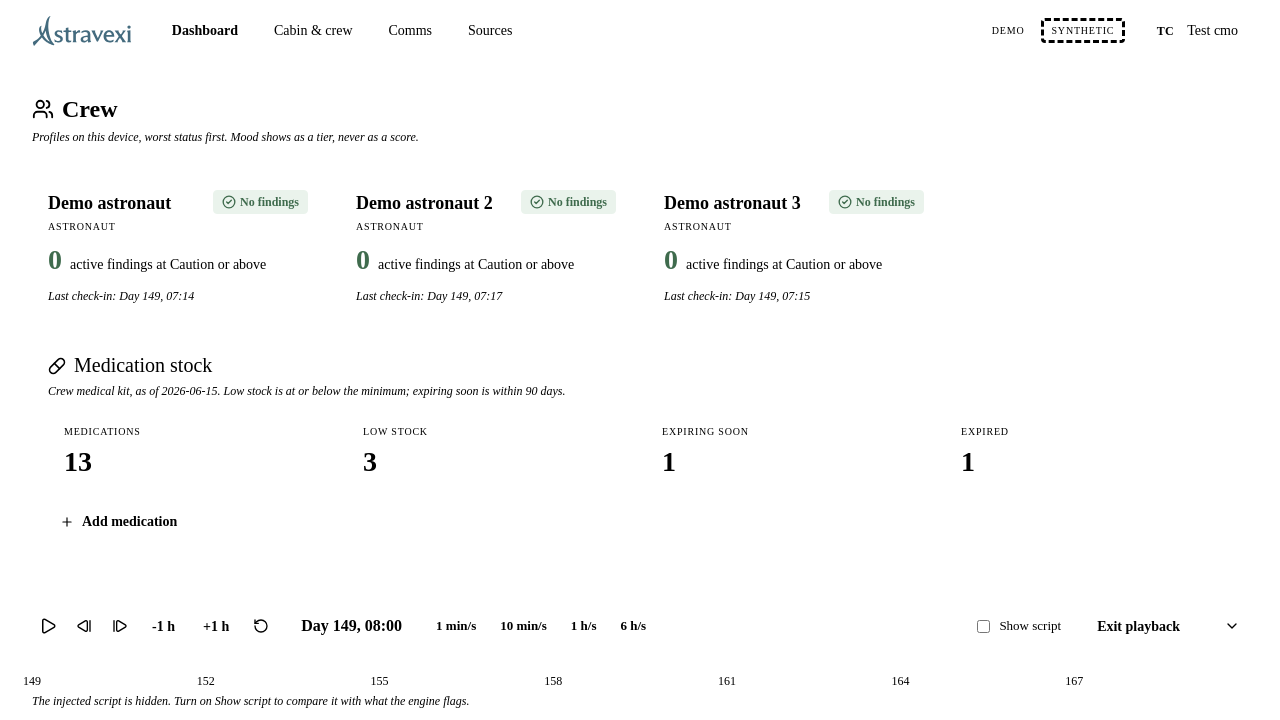
Test: the app follows the playback › updates the Cabin now tile and the attention list at known times, without a loading state in between
Click the button "Cabin & crew". click: (313, 30)
box: [258,12,368,49]
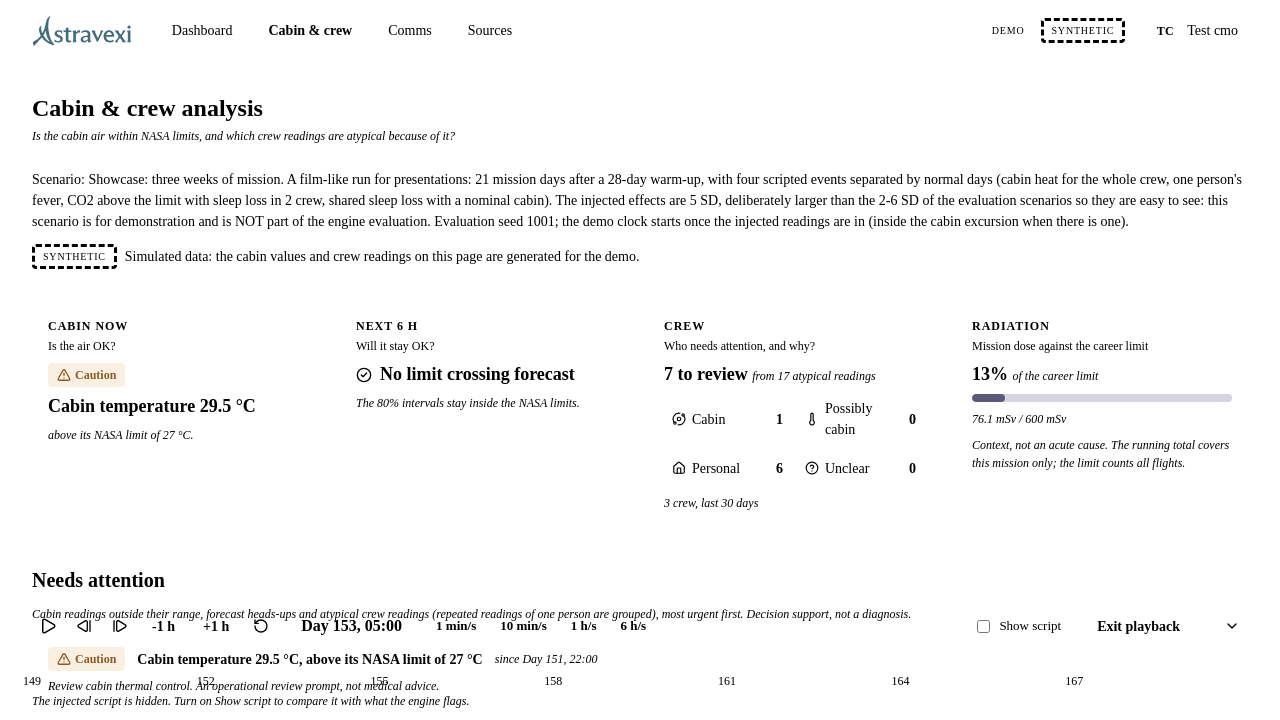
Expected: the text "Caution" is shown, [75,366,116,384]
Result: the text "Cabin temperature 29.5 °C" is shown at [48,396,256,416]
